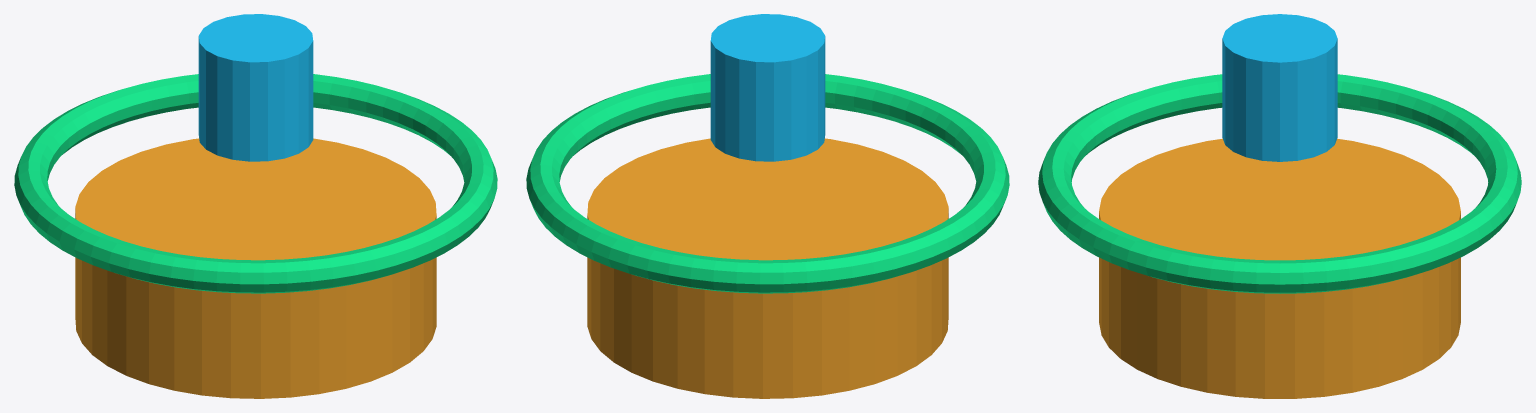
Rendered from 82_L87_RingCertificationBeacon.fbx.
The picture shows the model from 3 angles, left to right: view 1: azimuth 30°, elevation 25°; view 2: azimuth 150°, elevation 25°; view 3: azimuth 270°, elevation 25°; orthographic projection.
Visible parts, largest first — view 1: L87_RingCertificationBeacon_Part_0000, L87_RingCertificationBeacon_Part_0001, L87_RingCertificationBeacon_Part_0002; view 2: L87_RingCertificationBeacon_Part_0000, L87_RingCertificationBeacon_Part_0001, L87_RingCertificationBeacon_Part_0002; view 3: L87_RingCertificationBeacon_Part_0000, L87_RingCertificationBeacon_Part_0001, L87_RingCertificationBeacon_Part_0002.
Boxes of the visible parts, x1,y1,x2,y2 form: L87_RingCertificationBeacon_Part_0000: (75,138,436,398); L87_RingCertificationBeacon_Part_0001: (14,74,497,293); L87_RingCertificationBeacon_Part_0002: (198,14,313,161); L87_RingCertificationBeacon_Part_0000: (587,138,948,398); L87_RingCertificationBeacon_Part_0001: (526,74,1009,293); L87_RingCertificationBeacon_Part_0002: (710,14,825,161); L87_RingCertificationBeacon_Part_0000: (1099,138,1460,398); L87_RingCertificationBeacon_Part_0001: (1038,74,1521,293); L87_RingCertificationBeacon_Part_0002: (1222,14,1337,161).
Size of the model in its own units: 176 by 114 by 176.
